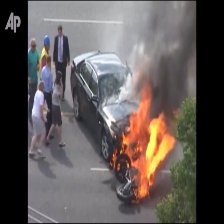fire_h: (119, 78, 176, 200)
fire_l: (116, 158, 129, 170), (110, 148, 117, 168)
